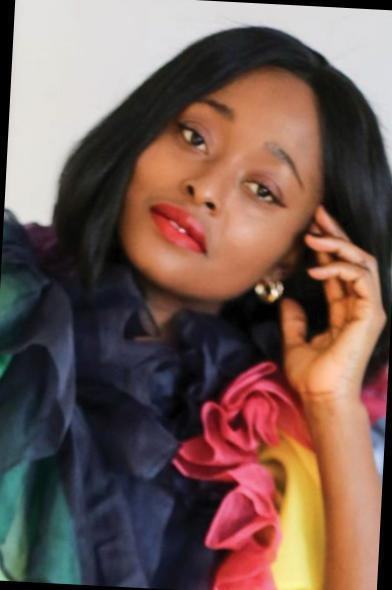Sober: (127, 74, 309, 278)
